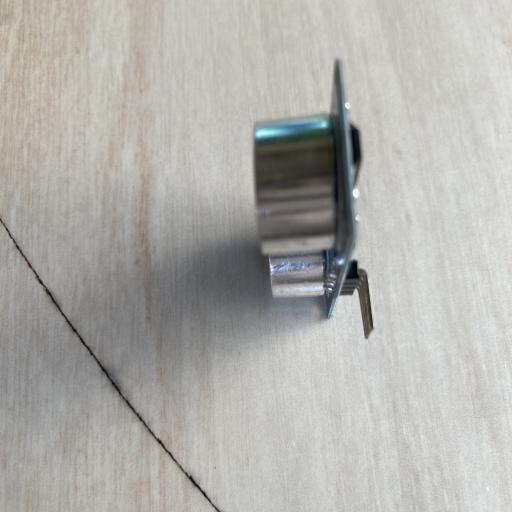Ultrasonic Sensor: (252, 56, 376, 342)
